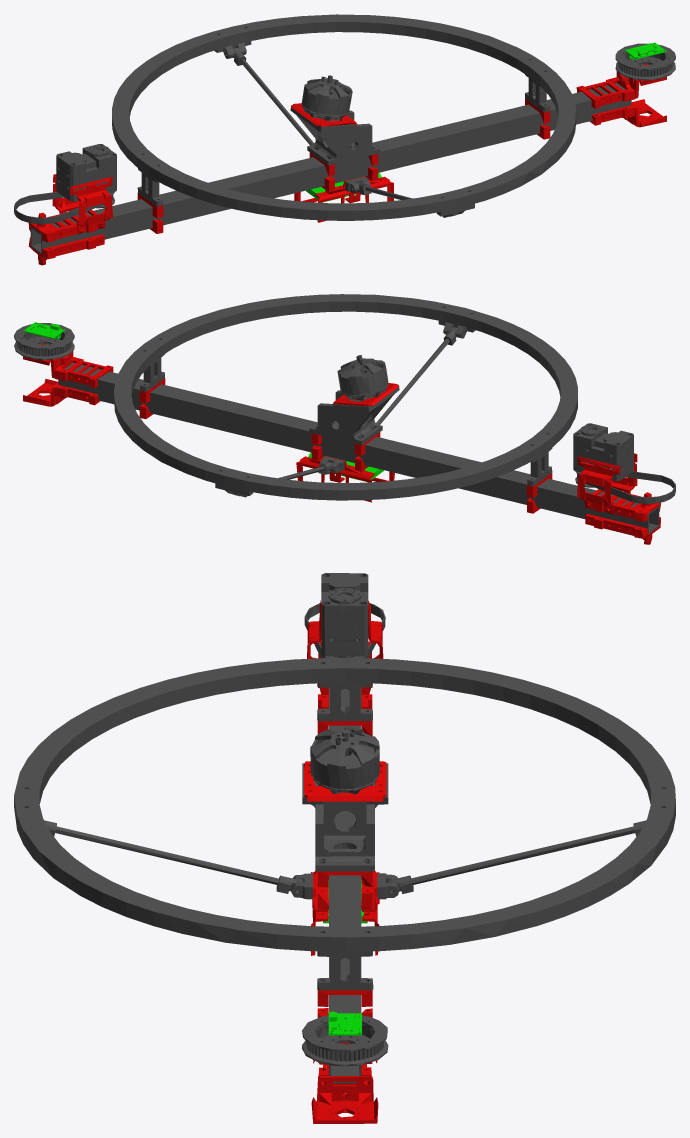
The model's file is tilt_10deg_15inch_link3.dae.
3 renders of one model, top to bottom at view 1: azimuth 30°, elevation 25°; view 2: azimuth 150°, elevation 25°; view 3: azimuth 270°, elevation 25°, orthographic. The views are drawn at different scales.
Parts seen in each view (by area): view 1: link3_tilt_15inch_black, link3_tilt_15inch_red, link3_green_part; view 2: link3_tilt_15inch_black, link3_tilt_15inch_red, link3_green_part; view 3: link3_tilt_15inch_black, link3_tilt_15inch_red, link3_green_part.
Boxes of the visible parts, x1,y1,x2,y2 form: link3_tilt_15inch_black: (14, 14, 675, 254); link3_tilt_15inch_red: (28, 64, 666, 265); link3_green_part: (306, 42, 666, 202); link3_tilt_15inch_black: (14, 294, 675, 534); link3_tilt_15inch_red: (23, 343, 660, 544); link3_green_part: (23, 322, 383, 481); link3_tilt_15inch_black: (14, 573, 675, 1083); link3_tilt_15inch_red: (304, 600, 386, 1123); link3_green_part: (323, 880, 367, 1035).
Size of the model in its own units: 0.6503 by 0.4001 by 0.1263.
